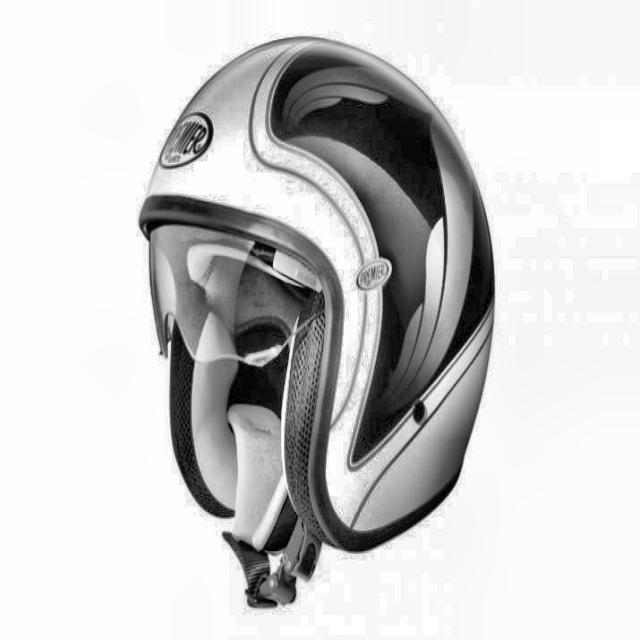Helmet: (136, 36, 507, 615)
